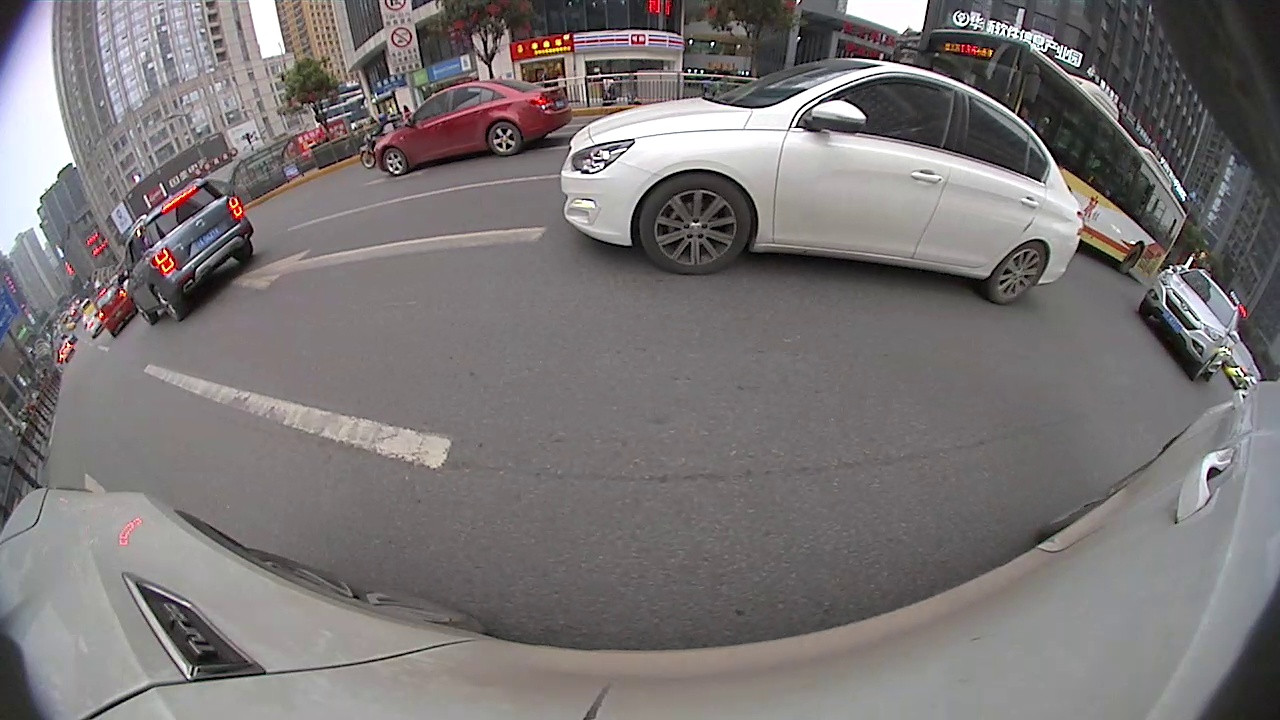bus: (917, 27, 1192, 285)
car: (561, 58, 1087, 307), (118, 176, 260, 328), (373, 78, 573, 177), (1134, 267, 1243, 384)
front: (637, 171, 754, 276), (383, 148, 406, 177)
rear: (985, 240, 1046, 309), (487, 120, 523, 158), (152, 285, 184, 324), (1118, 240, 1144, 276)
